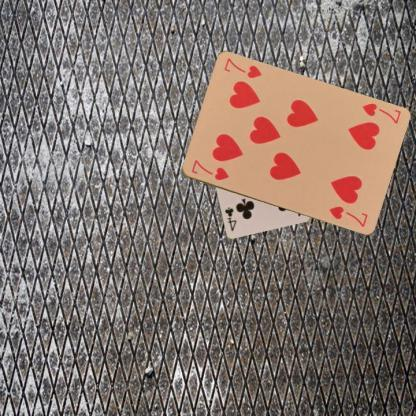7h: (360, 100, 402, 126), (188, 157, 230, 182)
